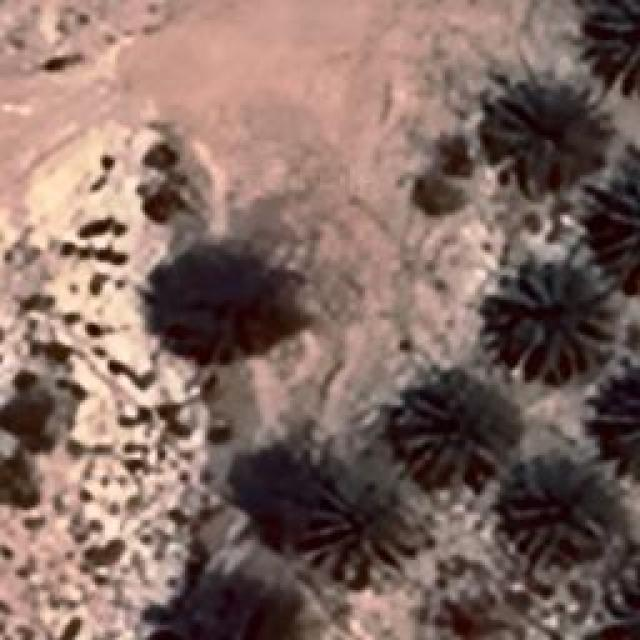PalmTree: (55, 143, 625, 600), (30, 79, 612, 216), (490, 250, 620, 380), (300, 465, 418, 590), (392, 382, 510, 488), (499, 74, 599, 186), (505, 464, 595, 558), (592, 362, 638, 476), (584, 0, 637, 92)
